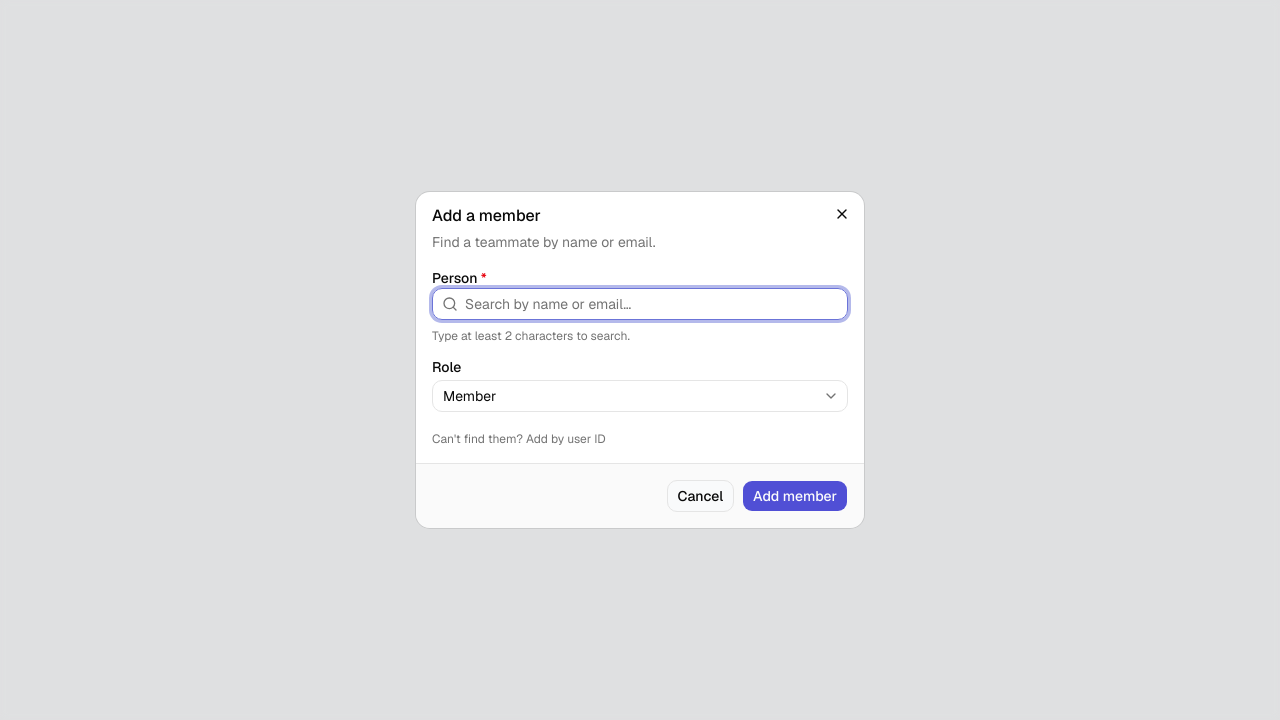
Test case: AddMemberDialog (search by name) › requires choosing a person before submitting
Click the button "Add member" at coordinates (795, 496), box [742,480,848,512]
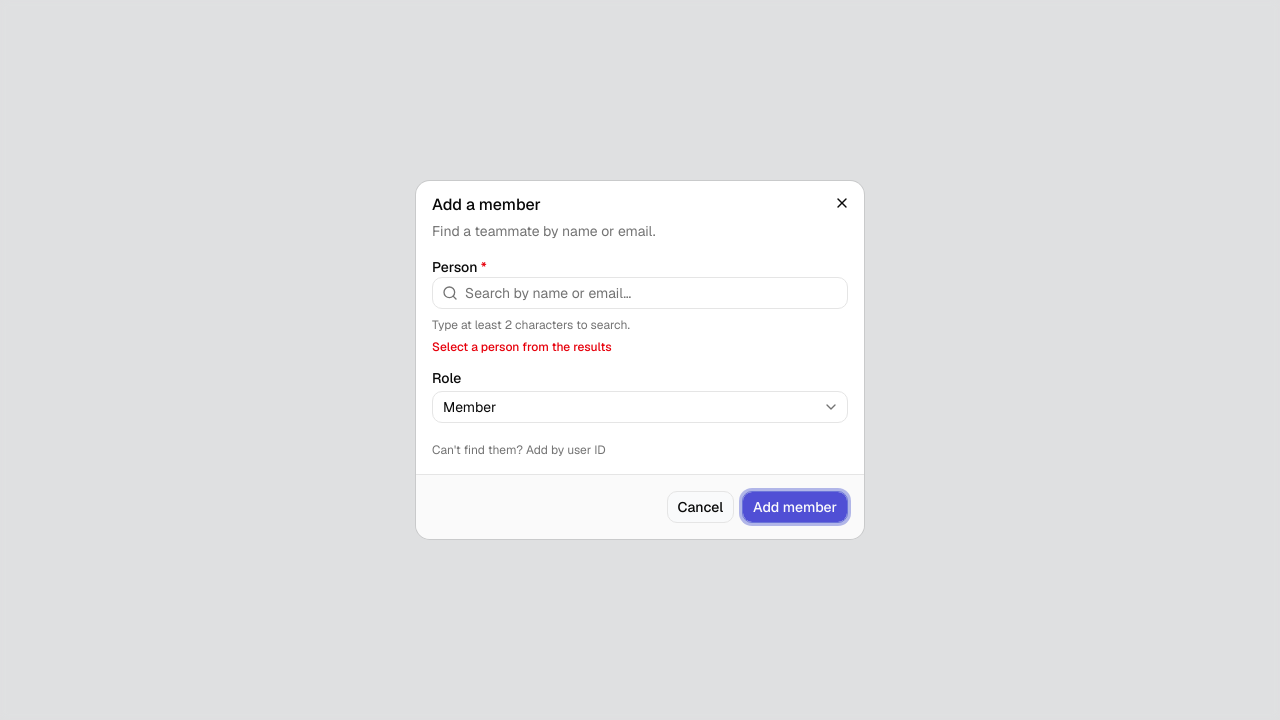
Now the text "Select a person from the results" is shown, box [432,339,612,355]
